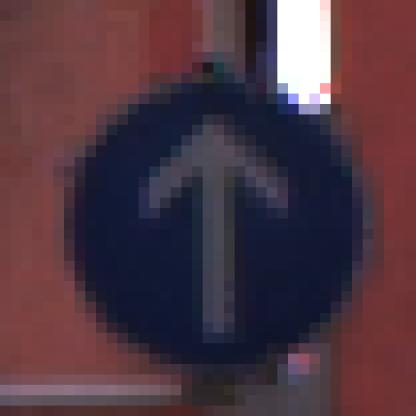AheadOnly: (65, 63, 364, 365)
